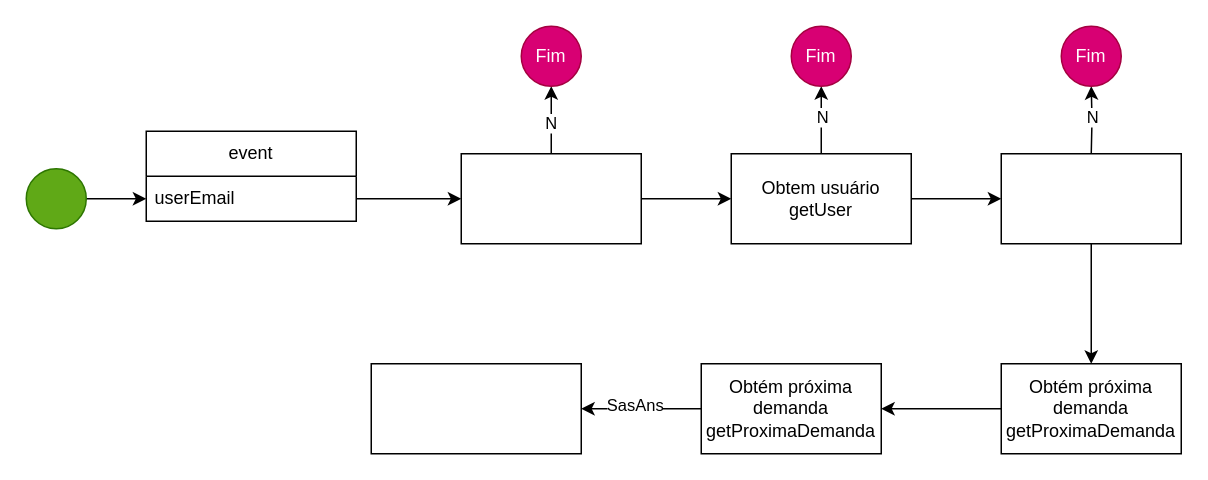
Image size: 1208x480. Some labels were removed from this diagram. The box of each missing label's shape, as (x1, y1, x2, y2) in pixels:
Chama: sasAnsCreateFrontEnd: (370, 362, 581, 454)
Checa se userEmail foi informado: (460, 152, 641, 244)
Checa se usuário possui perfil OperadorOito: (1000, 152, 1181, 244)
Início: (25, 167, 86, 229)
